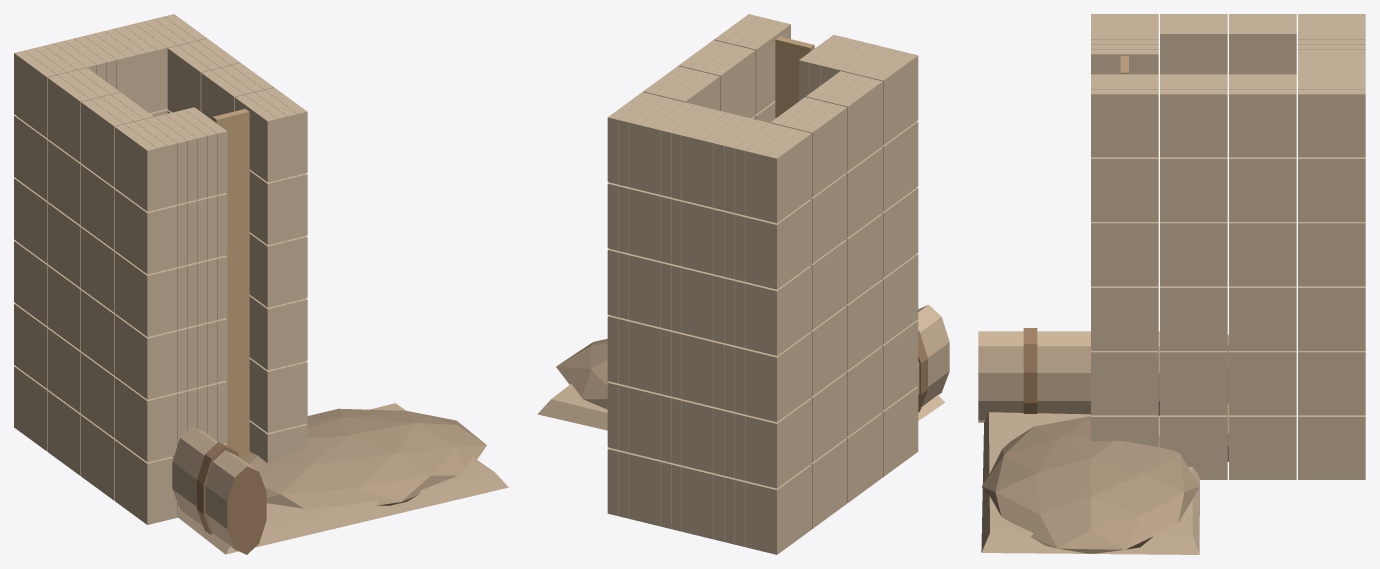
Rendered from building_mud_brick_house_half.glb.
3 renders of one model, left to right at view 1: azimuth 30°, elevation 25°; view 2: azimuth 150°, elevation 25°; view 3: azimuth 270°, elevation 25°, orthographic. The views are drawn at different scales.
Parts seen in each view (by area): view 1: building_mud_brick_house_half; view 2: building_mud_brick_house_half; view 3: building_mud_brick_house_half.
Boxes of the visible parts, x1=… form: building_mud_brick_house_half: x1=14, y1=14, x2=508, y2=554; building_mud_brick_house_half: x1=537, y1=14, x2=949, y2=554; building_mud_brick_house_half: x1=978, y1=14, x2=1365, y2=554.
Size of the model in its own units: 1 by 1.14 by 1.
